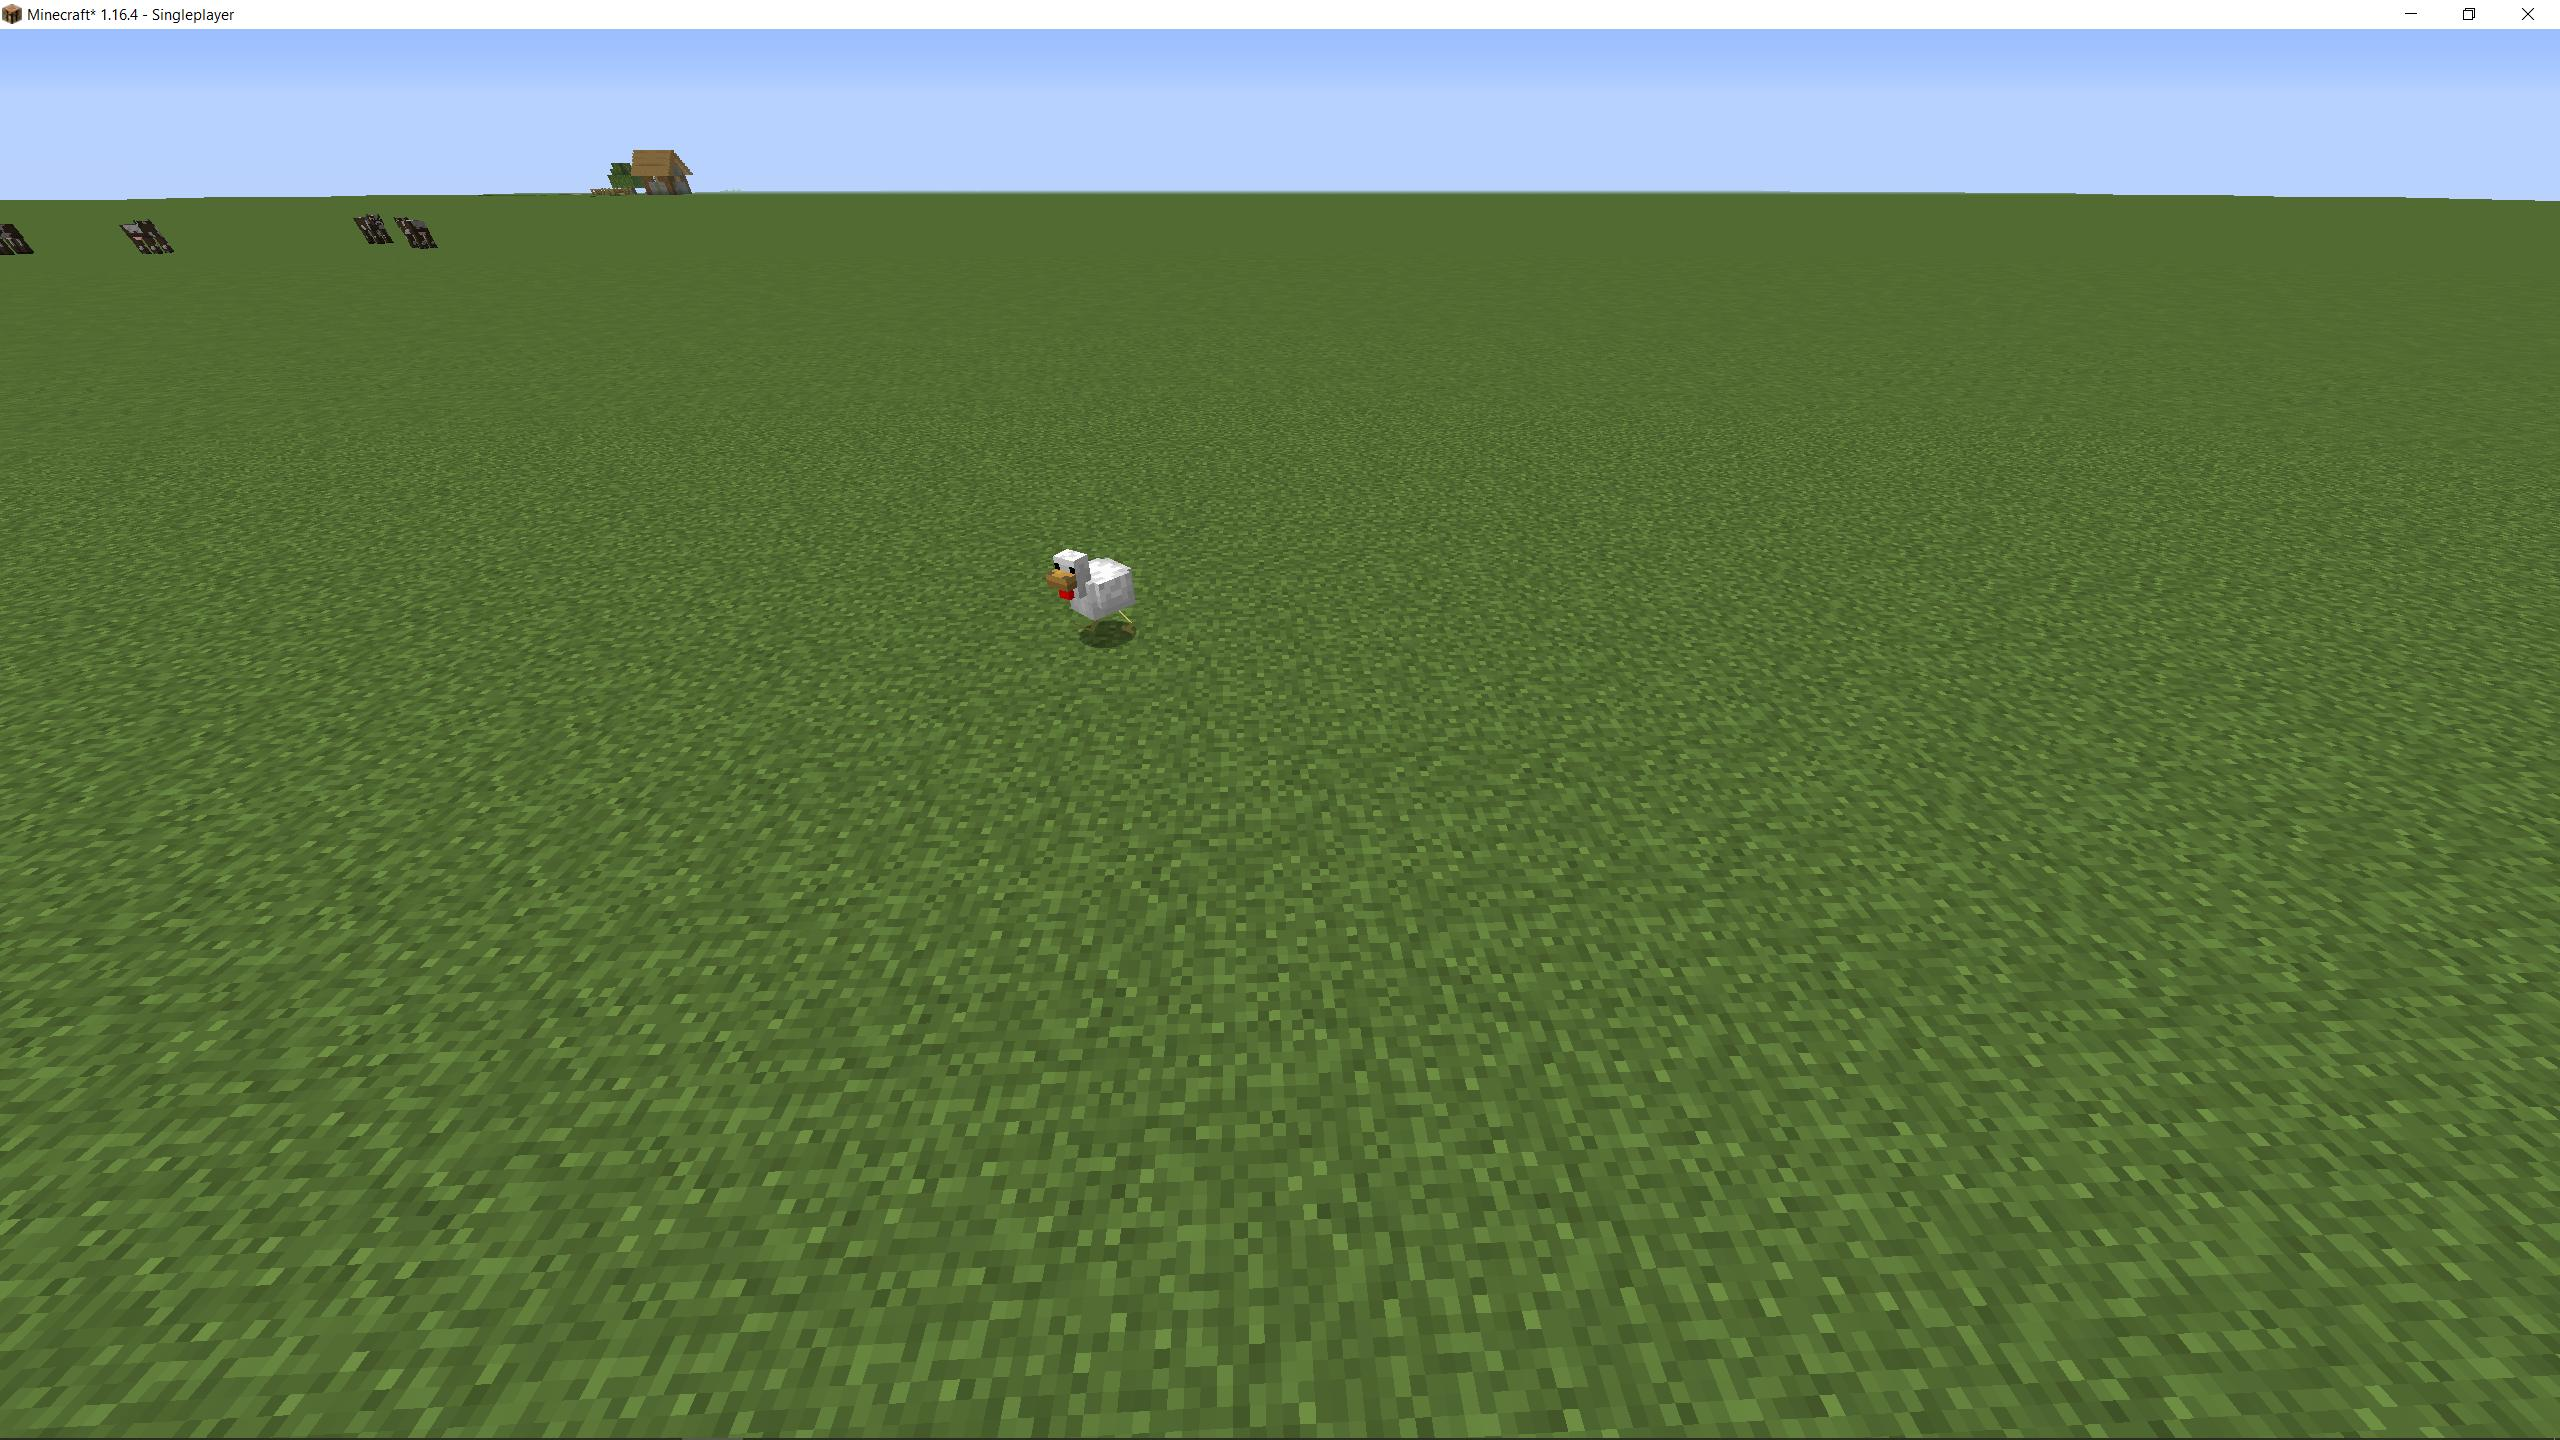chicken: (1050, 549, 1143, 638)
